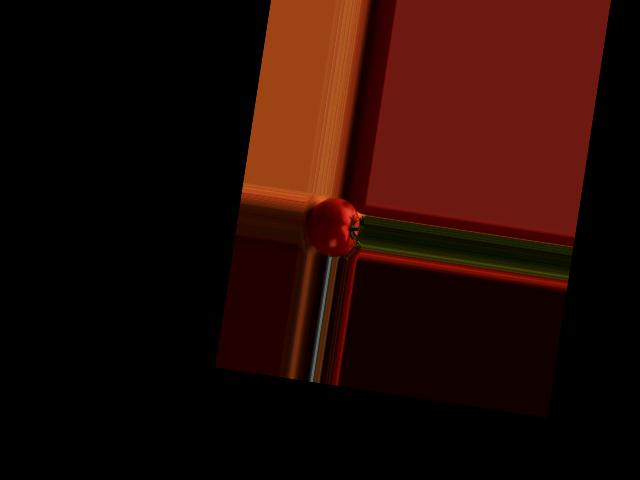tomato: (303, 193, 363, 259)
